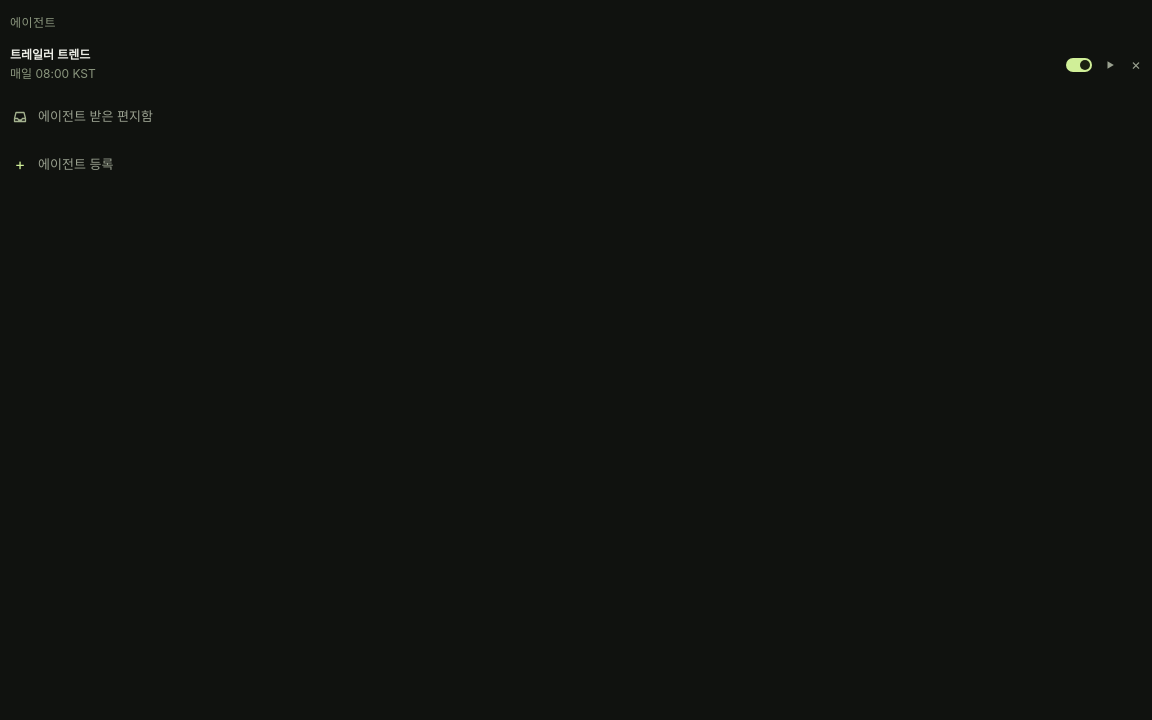
Test: R20-44 what a press will do, cost and take is said before it › ▶ 지금 실행: asks first with what it does, how long it takes and that it costs
The image size is (1152, 720).
Later steps or results of the test are not shown.
Click the button named "트레일러 트렌드 지금 실행".
click(1110, 64)  # box [1098, 52, 1122, 76]
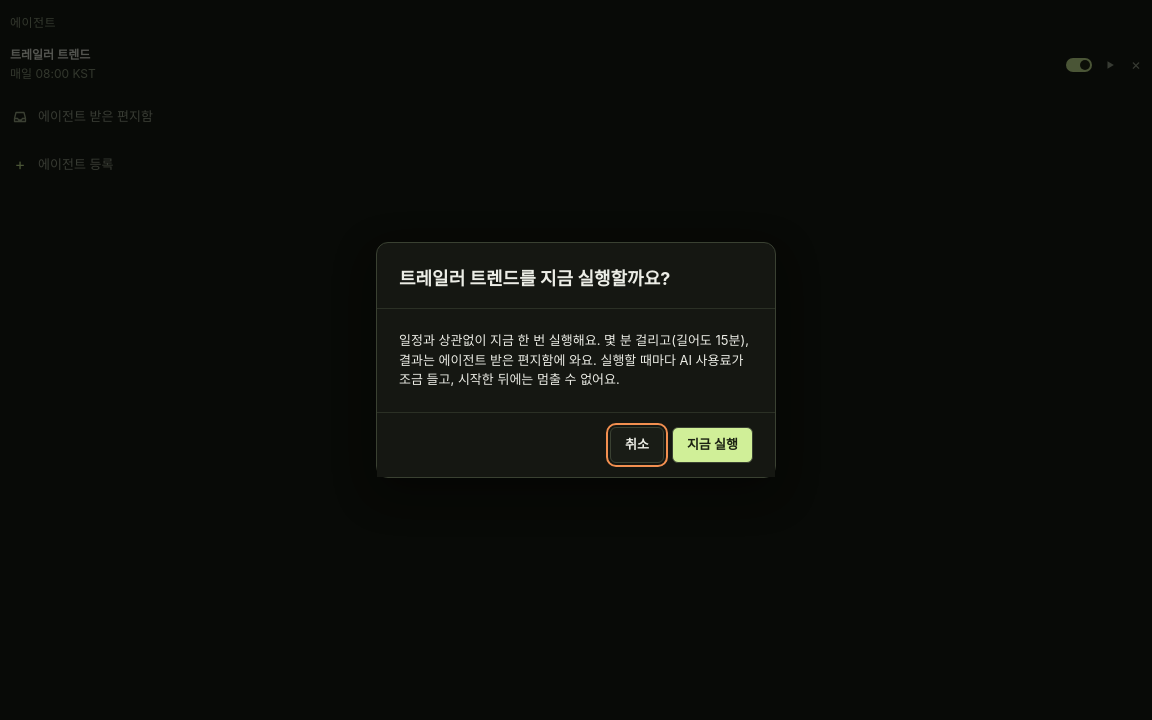
Result: the heading "트레일러 트렌드를 지금 실행할까요?" is shown at [399, 265, 670, 292]
Result: the text with class "dialog-lead" shows "일정과 상관없이 지금 한 번 실행해요. 몇 분 걸리고(길어도 15분), 결과는 에이전트 받은 편지함에 와요. 실행할 때마다 AI 사용료가 조금 들고, 시작한 뒤에는 멈출 수 없어요." at [399, 332, 749, 387]
